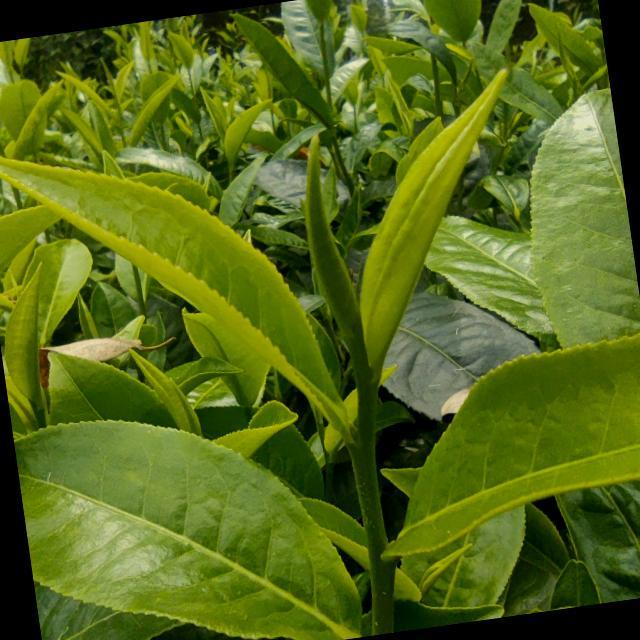Stem: (359, 381, 376, 406)
